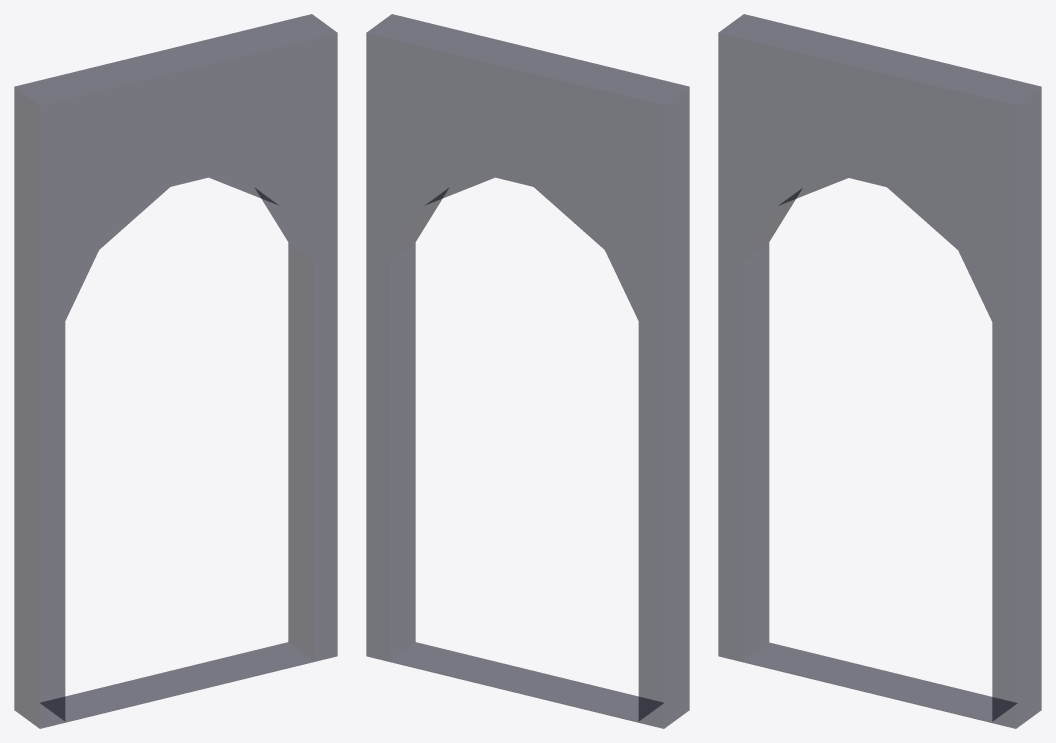
Rendered from GlassDoorframe.glb.
3 views of the same model, side by side, from view 1: azimuth 30°, elevation 25°; view 2: azimuth 150°, elevation 25°; view 3: azimuth 330°, elevation 25° (orthographic).
Parts seen in each view (by area): view 1: wall_glass_door; view 2: wall_glass_door; view 3: wall_glass_door.
Part boxes in pixels (bbox=[...]): wall_glass_door: bbox=[14, 14, 337, 728]; wall_glass_door: bbox=[366, 14, 689, 728]; wall_glass_door: bbox=[718, 14, 1041, 728].
Size of what is drawn, in the model's own units: 2 by 4 by 0.3.
Materials: 1 (1 with a texture image).
